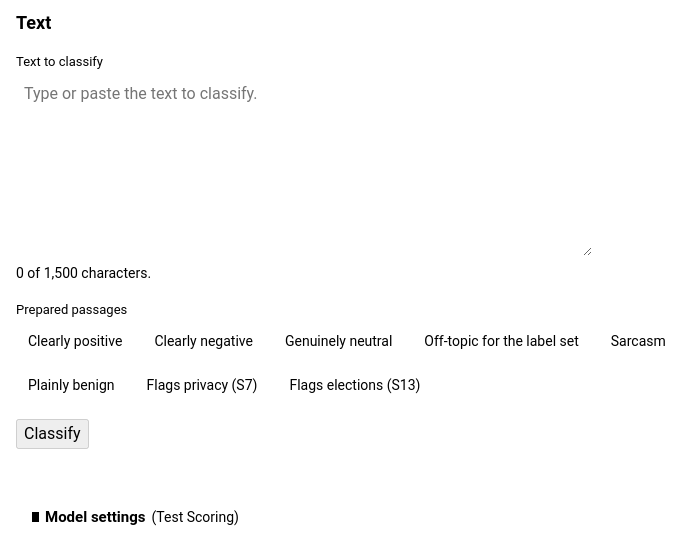
Test: the composer › offers prepared passages without running them
The width and height of the screenshot is (694, 543).
Click the button with class "example" showing "Clearly positive".
click(75, 341)  # box [16, 323, 134, 359]
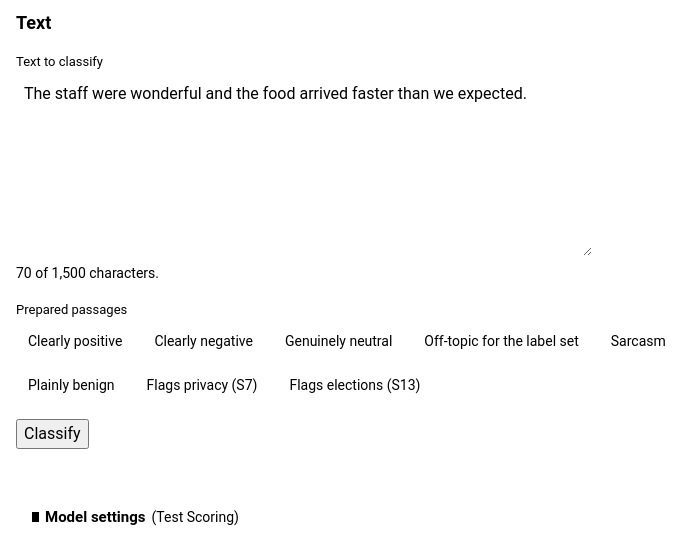
Check: the text box with id "classify-text-input" is not empty, box [16, 76, 592, 256]
